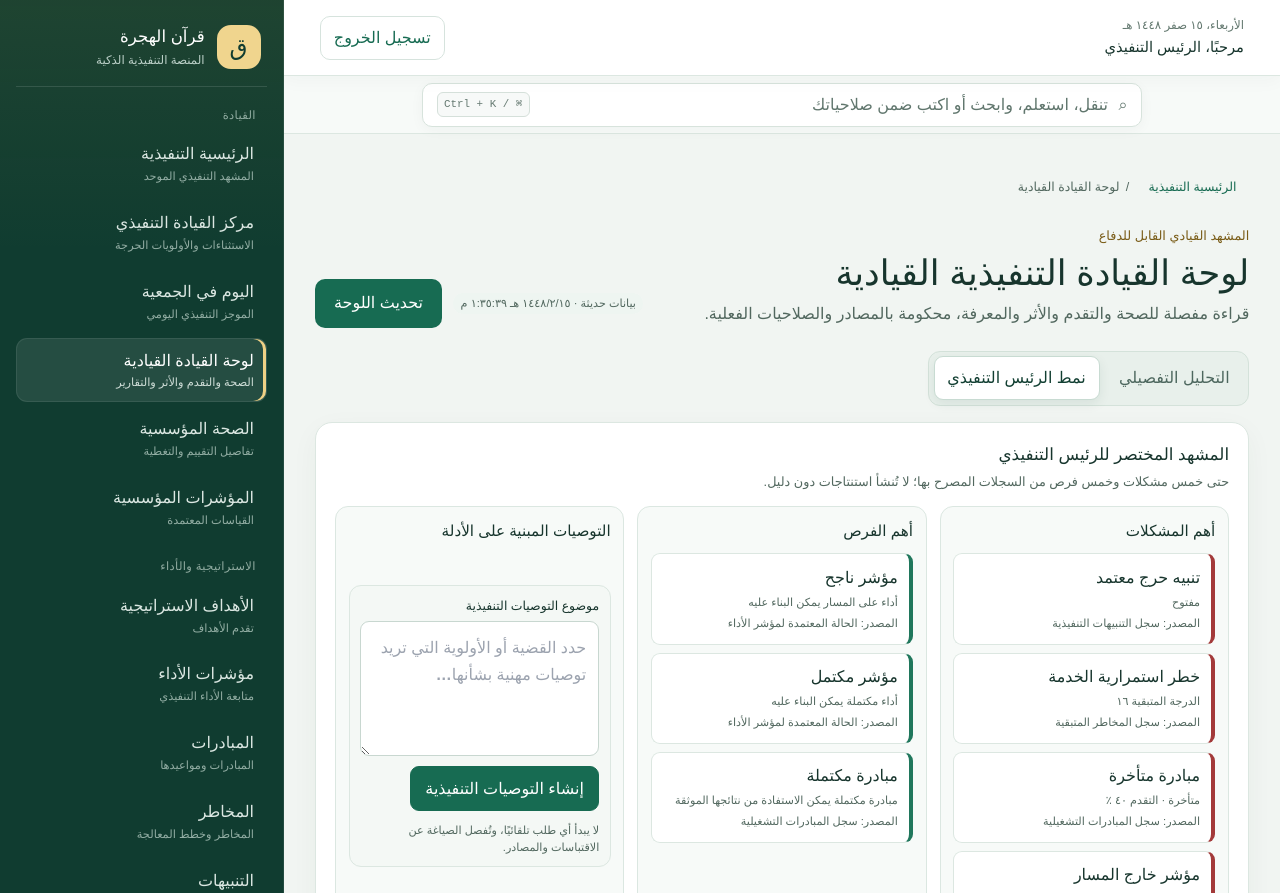
Test: Sprint 1C executive leadership dashboard › shows CEO mode from authorized evidence and never generates recommendations automatically
Expected: the heading "أهم المشكلات" is shown, [1126, 522, 1215, 539]
Expected: the text "تنبيه حرج معتمد" is shown, [1096, 569, 1200, 586]
Click the button "التحليل التفصيلي".
click(1174, 378)  # box [1105, 356, 1243, 400]
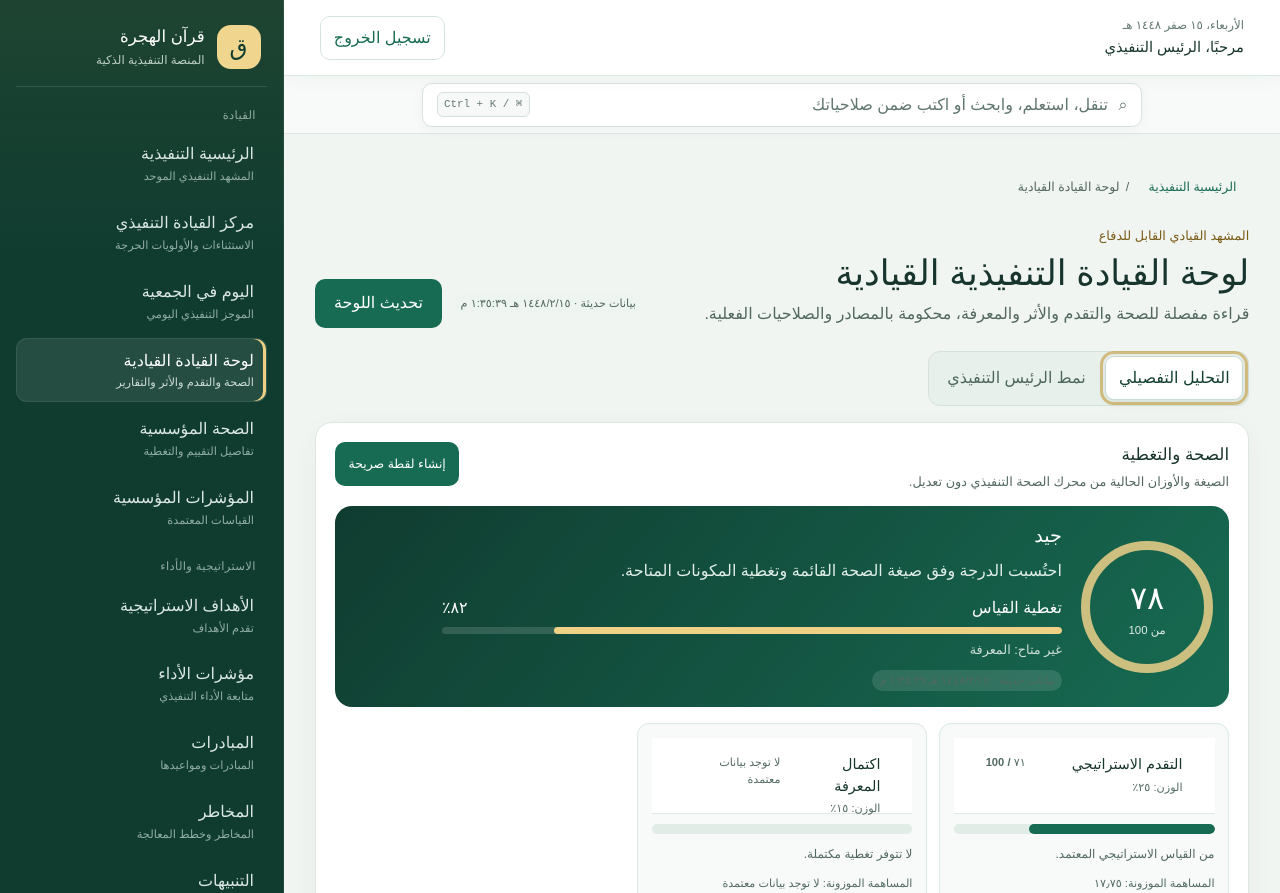
Expected: the heading "الصحة والتغطية" is shown, [1121, 445, 1229, 464]
